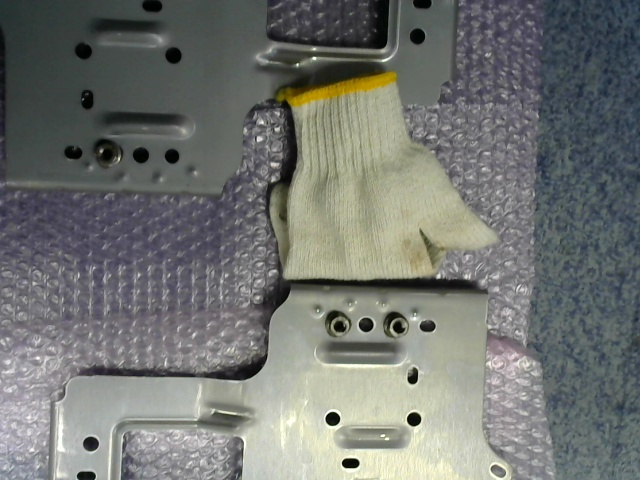dog: (94, 139, 123, 167), (324, 309, 353, 337), (383, 311, 410, 340)
